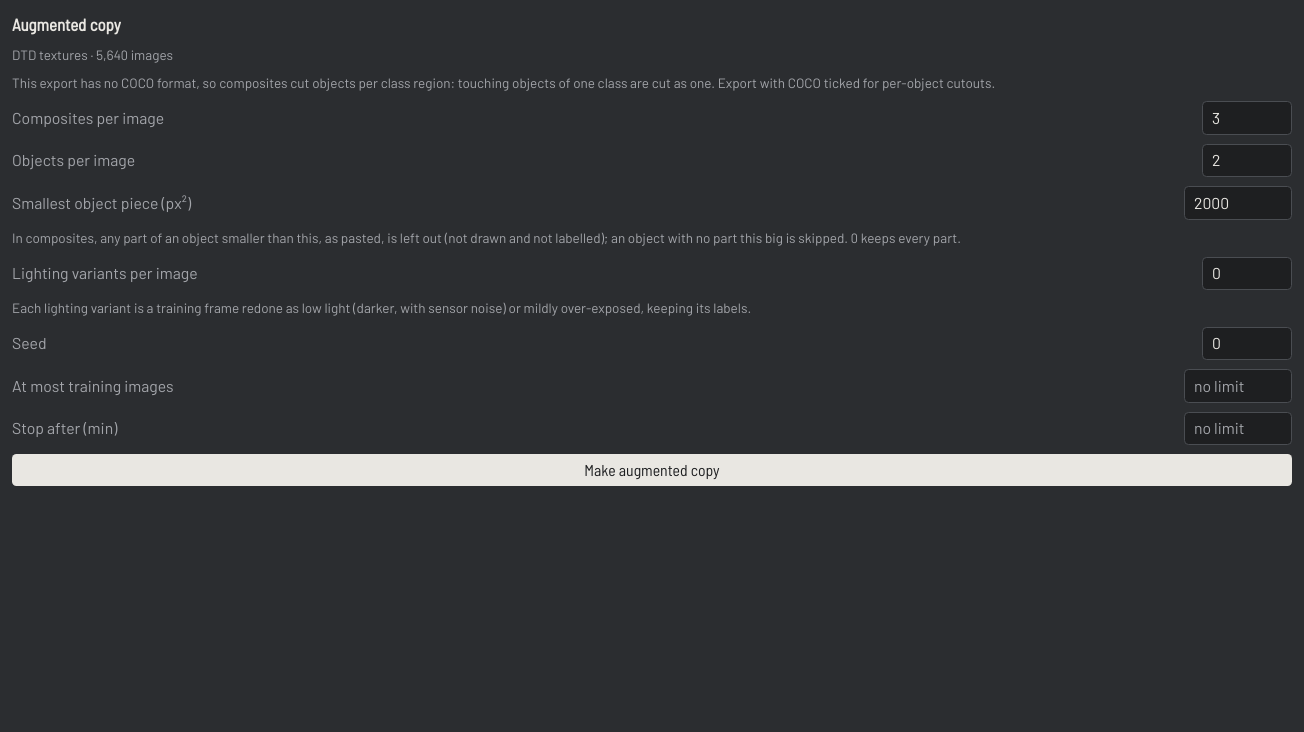
it: AugmentPanel › shows an alert when augmentExport itself is refused with a 400
Expected: the text "DTD textures · 5,640 images" is shown, [12,46,173,63]
Click the button "Make augmented copy". click: click(652, 470)
box: [12,454,1292,486]
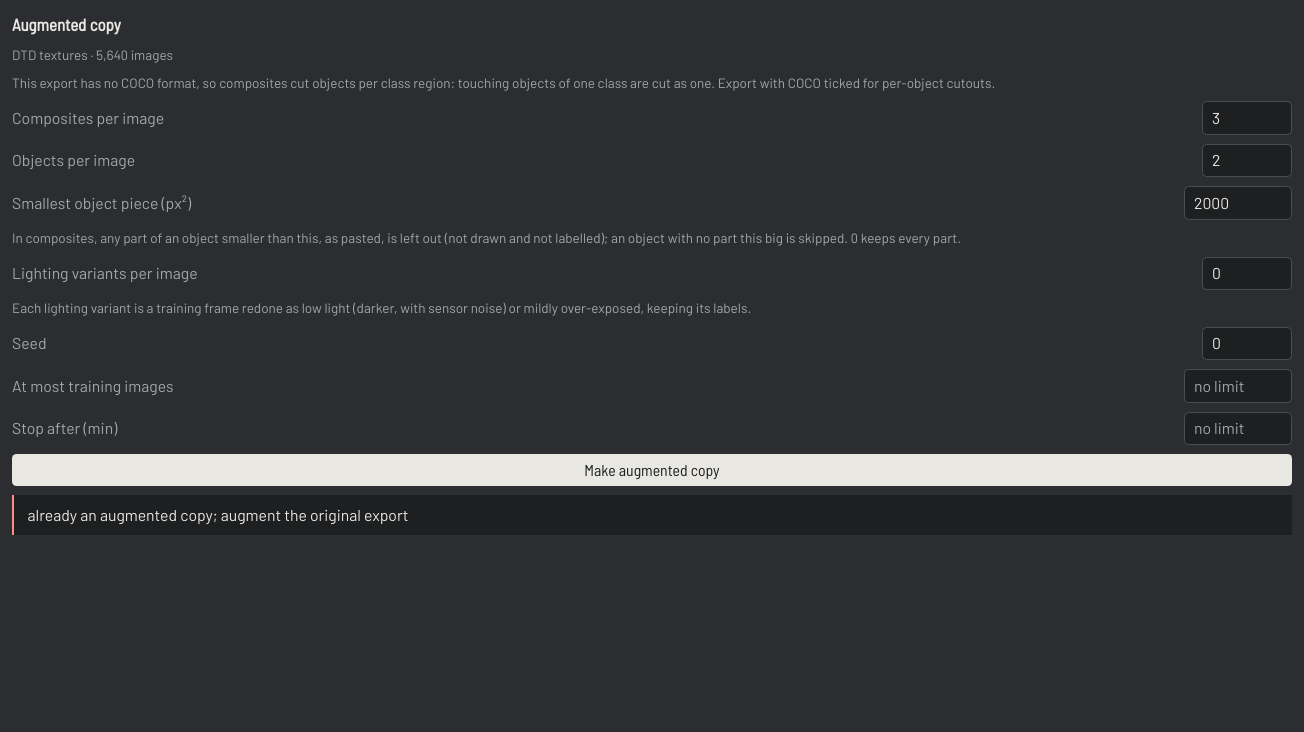
Expected: the message reads "already an augmented copy; augment the original export", [28,505,409,524]
